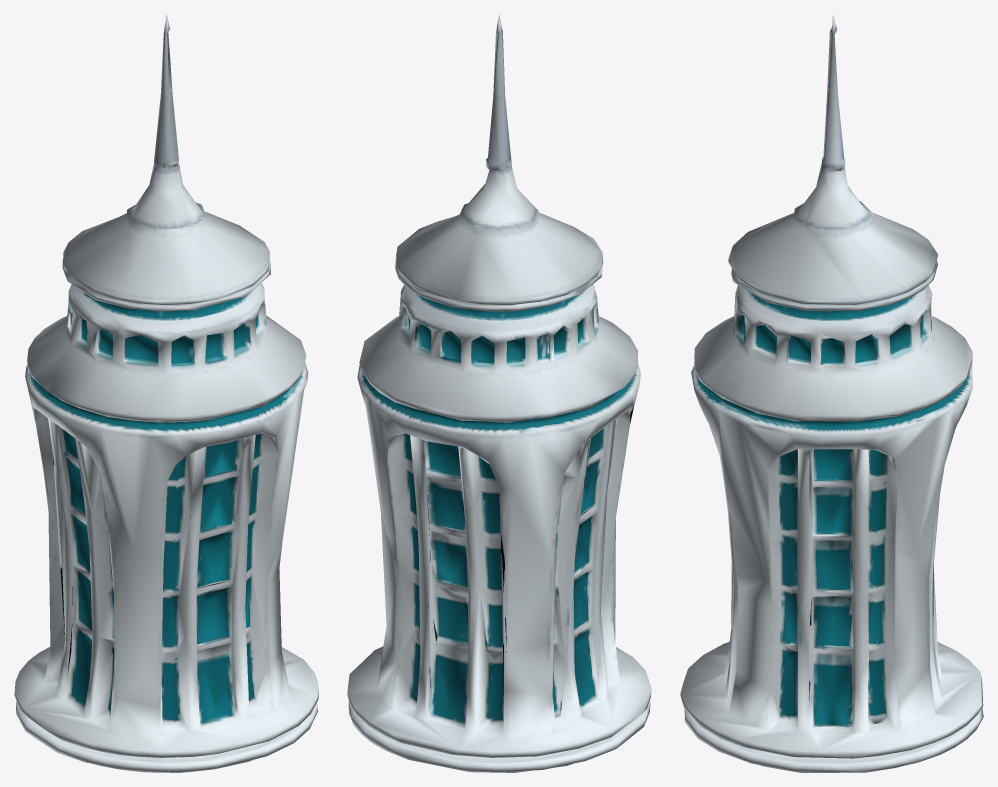
File: future.fbx
3 views of the same model, side by side, from view 1: azimuth 30°, elevation 25°; view 2: azimuth 150°, elevation 25°; view 3: azimuth 270°, elevation 25° (orthographic).
Visible parts, largest first — view 1: Major_future; view 2: Major_future; view 3: Major_future.
Boxes of the visible parts, left/top/right/bottom form: Major_future: left=14, top=14, right=318, bottom=772; Major_future: left=347, top=15, right=651, bottom=772; Major_future: left=680, top=15, right=983, bottom=772.
Size of the model in its own units: 4.33 by 11 by 4.32.
Materials: 1 (1 with a texture image).
